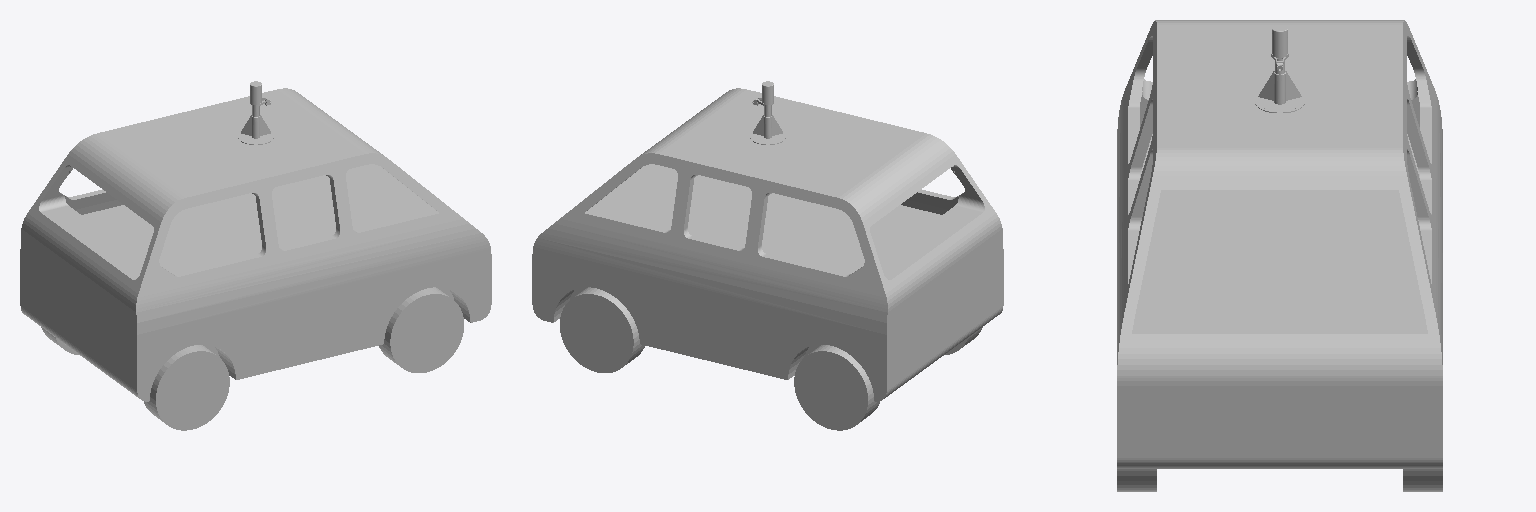
The robot description file, URDF, robot "mia":
<?xml version="1.0"?>
<robot name="mia">
    <link name="base_link" />
<!--
    <link name="velodyne" />
    <link name="velodyne_gps" />
    <link name="xsens_mt0" />
    <link name="xsens_mt1" />
    <link name="ibeo_scala_b3" />
    <link name="mobileye" />
    <link name="hokuyo_front" />
    <link name="hokuyo_rear" />
    <link name="camera" /> <randomly named as camera it can be changed> 
-->    
<link name="mesh">
        <visual>
            <origin xyz="2.87 -0.475 0.9" rpy="1.57079633 0 4.71238898" />
            <geometry>
                <mesh filename="package://nodes/config/mia.stl" scale="0.001 0.001 0.001" />
            </geometry>
            <material name="light grey">
                <color rgba="0.8 0.8 .8 1"/>
            </material>
        </visual>
    </link>
<!--
    <joint name="base_to_xsens_rigt" type="fixed"> realtive to driver
        <parent link="base_link"/>
        <child link="xsens_mt1"/>
        <origin xyz="-0.175 -0.005 1.64" rpy="0 0 0" />
    </joint>

    <joint name="base_to_xsens_left" type="fixed"> realtive to driver
        <parent link="base_link"/>
        <child link="xsens_mt0"/>
        <origin xyz="-0.175 0.005 1.64" rpy="0 0 0" />
    </joint>

    <joint name="base_to_velodyne_gps" type="fixed">
        <parent link="base_link"/>
        <child link="velodyne_gps"/>
        <origin xyz="0.45 -0.245 1.615" rpy="0 0 0" />
    </joint>

    <joint name="base_to_velodyne" type="fixed">
        <parent link="base_link"/>
        <child link="velodyne"/>
        <origin xyz="-0.175 0.0 2.03 " rpy="0.0 0.0 0.7" />
    </joint>

    <joint name="base_to_ibeo_scala" type="fixed">
        <parent link="base_link"/>
        <child link="ibeo_scala_b3"/>
        <origin xyz="1.40 0 0.575" rpy="0 0 0" />
    </joint>

    <joint name="base_to_hokuyo_rear" type="fixed">
        <parent link="base_link"/>
        <child link="hokuyo_rear"/>
        <origin xyz="-0.95 0 1.67" rpy="0 0.78539816339 3.14159265359" />
    </joint>

    <joint name="base_to_hokuyo_front" type="fixed">
        <parent link="base_link"/>
        <child link="hokuyo_front"/>
        <origin xyz="1.40 0 0.6" rpy="0 0.78539816339 3.14159265359" />
    </joint>

    <joint name="base_to_mobileye" type="fixed">
        <parent link="base_link"/>
        <child link="mobileye"/>
        <origin xyz="1.125 0 1.075" rpy="0 0.0 0.0" />
    </joint>

    <joint name="mobileye_to_camera" type="fixed">
        <parent link="mobileye"/>
        <child link="camera"/>
        <origin xyz="0 -0.115 0.01" rpy="0 0.0 0.0" />
    </joint> 
-->
    <joint name="base_to_mesh" type="fixed">
        <parent link="base_link"/>
        <child link="mesh"/>
    </joint>
</robot>

--- What the picture shows (computed from the rendered views, not written in the file) ---
The picture shows the robot from 3 angles, left to right: view 1: azimuth 30°, elevation 25°; view 2: azimuth 150°, elevation 25°; view 3: azimuth 270°, elevation 25°; orthographic projection.
Robot: mia — 2 links, 1 joints (1 fixed); root link base_link; default pose: every joint at zero.
Links seen in each view (by area): view 1: mesh; view 2: mesh; view 3: mesh.
Link boxes in pixels (x1,y1,x2,y2): mesh: [20, 81, 491, 430]; mesh: [532, 81, 1003, 430]; mesh: [1117, 20, 1442, 491].
Bounding box of the posed robot: 2.87 × 1.64 × 2.12 m (x, y, z).
1 mesh visuals loaded from 1 distinct referenced files (1 binary STL).
